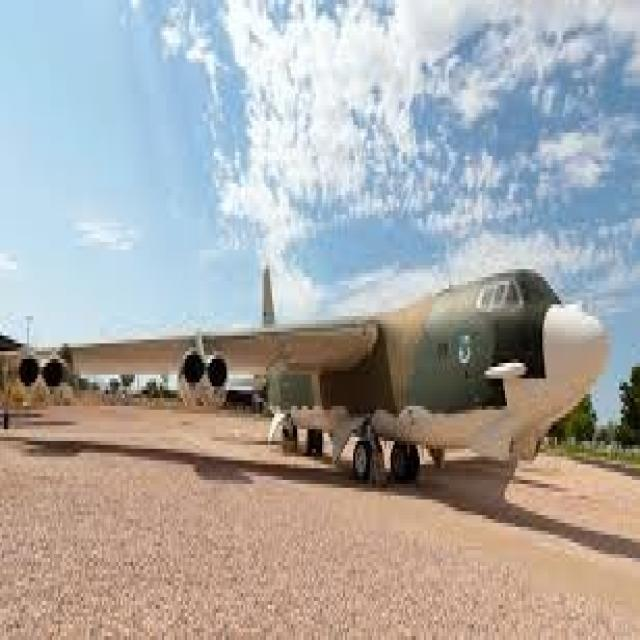B52: (5, 105, 615, 530)
